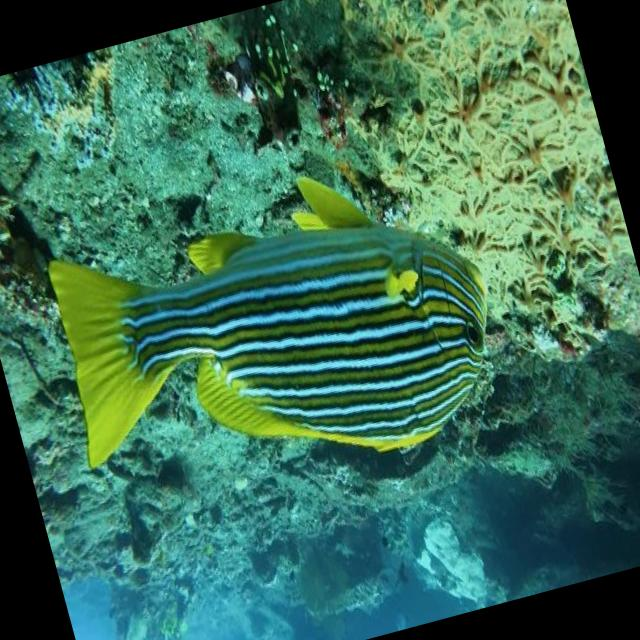RibbonedSweetlips: (29, 135, 523, 534)
